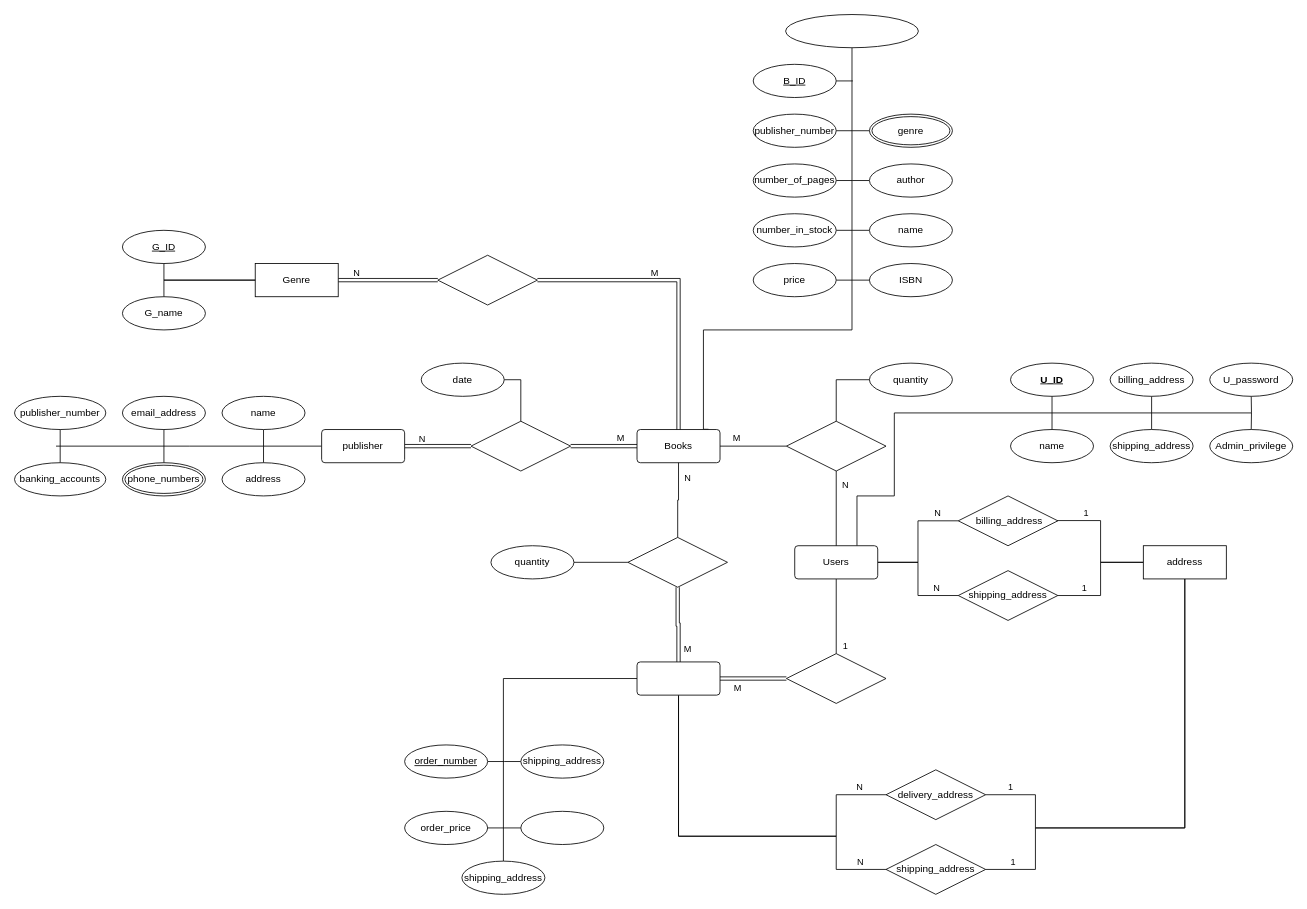
This 1307x909 diagram has some shape labels left out. Here are the shapes that lost their labels. From the top down, the centre of each, then its label:
[851,31]: publisher_sale_percentage
[487,279]: Book Genre
[520,445]: published
[836,445]: add_to_cart
[677,562]: books in order
[678,678]: order
[836,678]: made order
[562,827]: tracking_number
